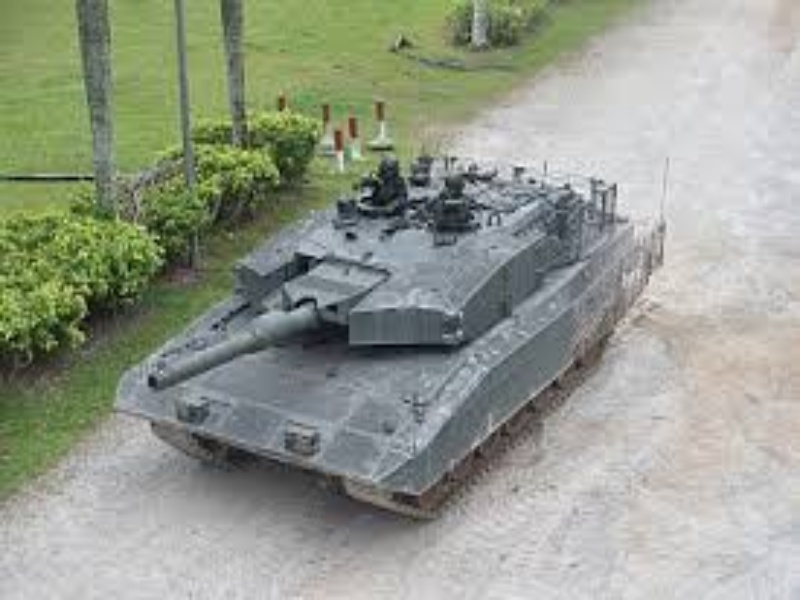tank: (109, 147, 676, 529)
